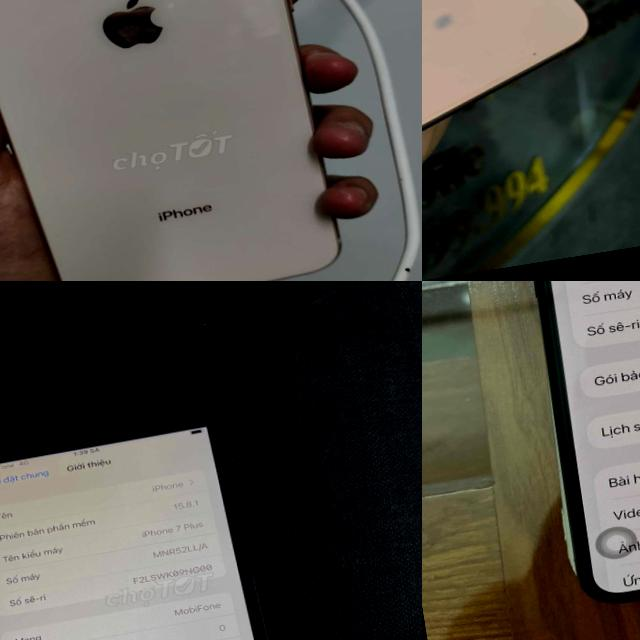scratch: (523, 36, 549, 68)
